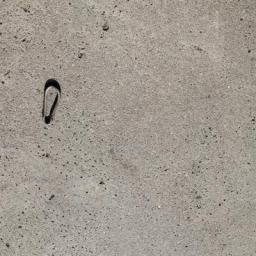FOD: (39, 79, 65, 127)
